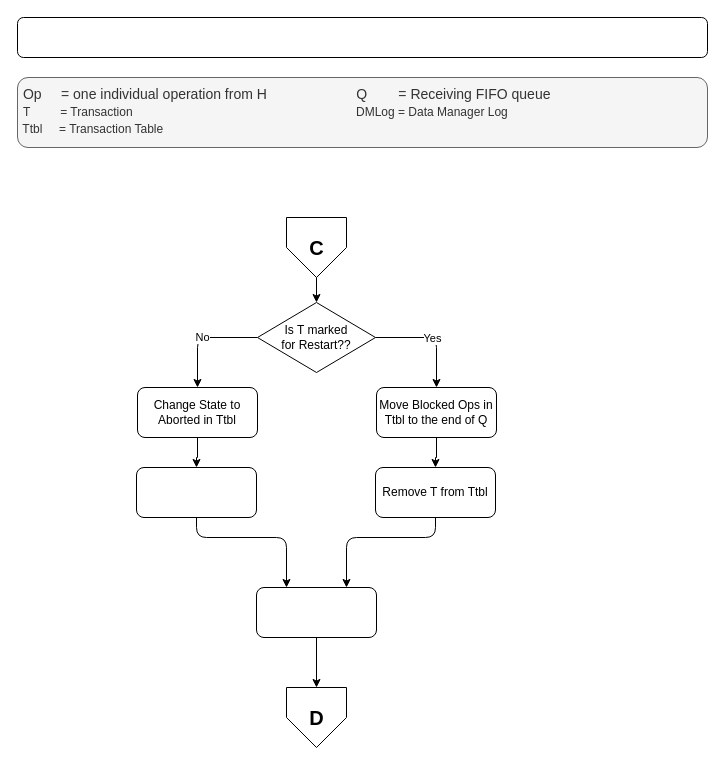
This 725x765 diagram has some shape labels left out. Here are the shapes that lost their labels. From the top down, the centre of each, then its label:
At (x=362, y=37): "Process Abort Operation".
At (x=196, y=492): "Unlock each Active List operation in Ttbl".
At (x=316, y=612): "Log Aborted Operation".
